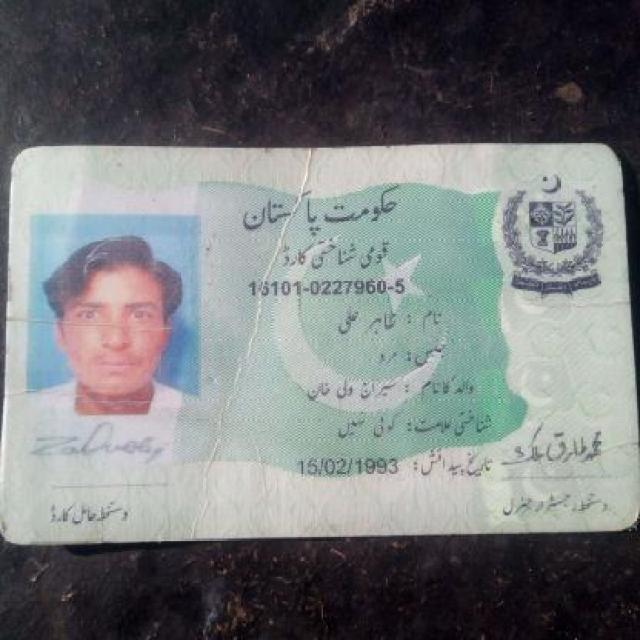Front: (7, 136, 640, 549)
